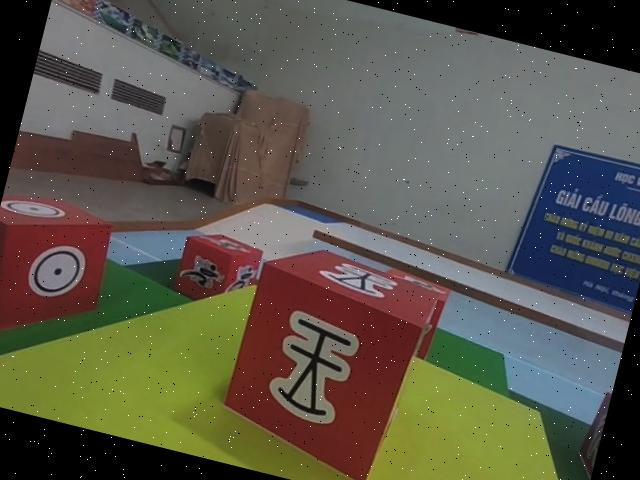R1: (173, 225, 264, 305)
R2 Fake: (568, 386, 612, 480)
R2 Real: (211, 229, 445, 480), (0, 179, 123, 354)
